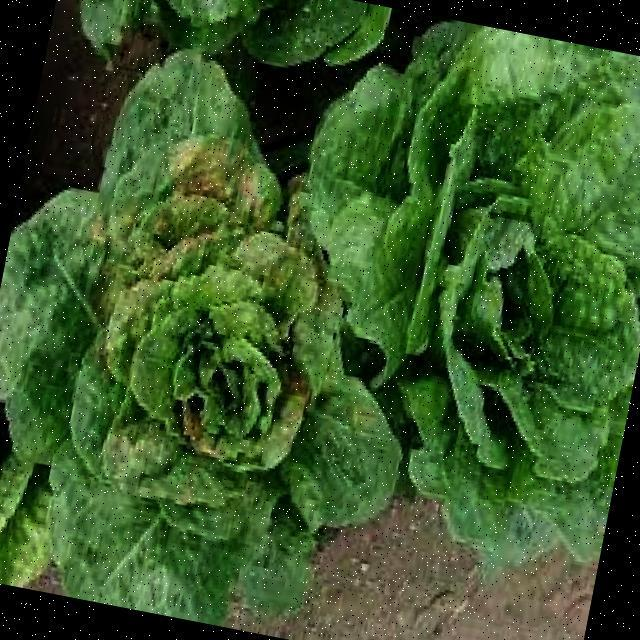Lettuce Mosaic Virus: (38, 114, 388, 593)
